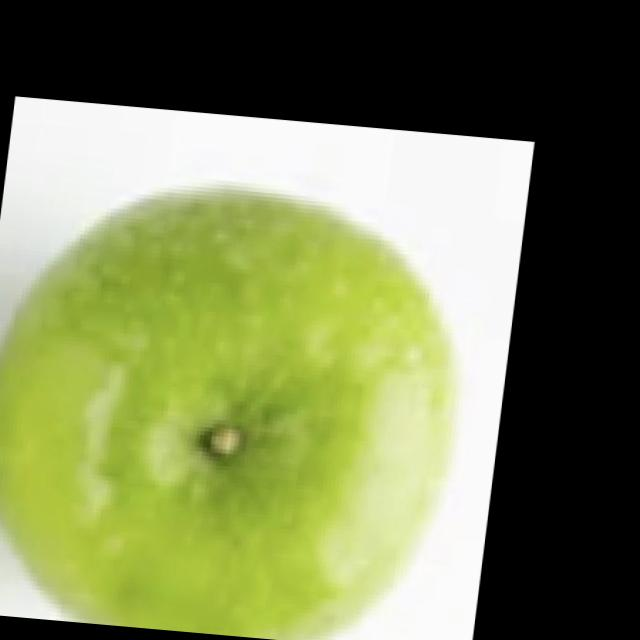Apple: (0, 163, 486, 640)
